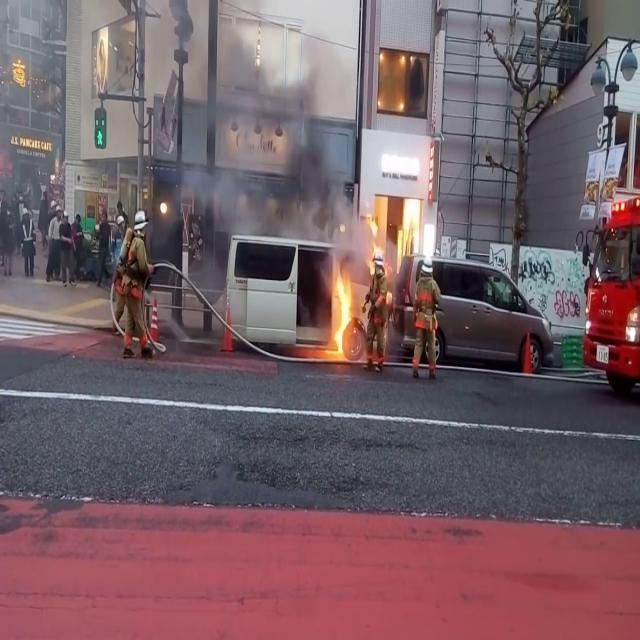Fire: (327, 263, 357, 357), (394, 187, 426, 266)
Smoke: (168, 2, 354, 245)
